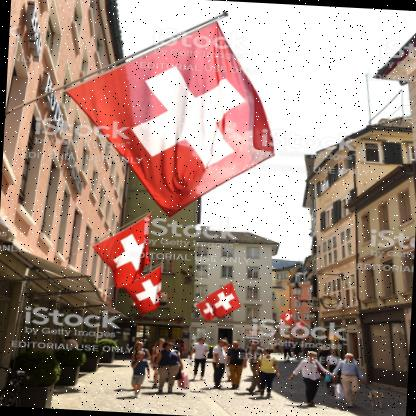ch: (52, 8, 281, 224), (93, 214, 154, 289), (124, 262, 167, 317), (204, 281, 242, 320), (196, 300, 220, 321), (274, 311, 298, 330)
